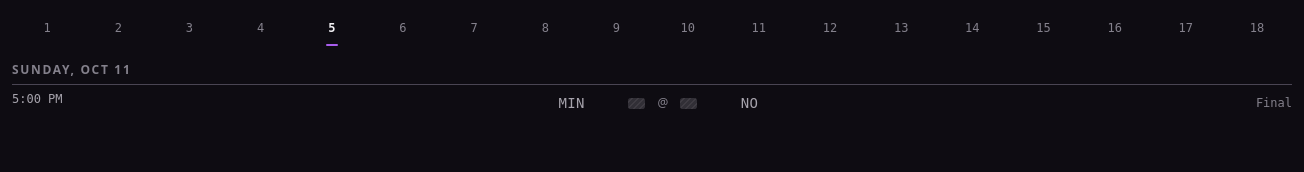
Test case: WeekSchedule › moves between weeks in place
The width and height of the screenshot is (1304, 172).
Click the button named "Week 6" at (403, 29), box [368,12,438,46]
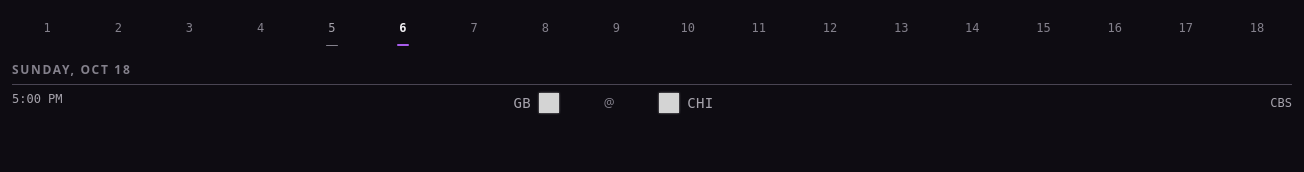
Check: the text "CBS" is shown, box [1270,96,1292,110]
